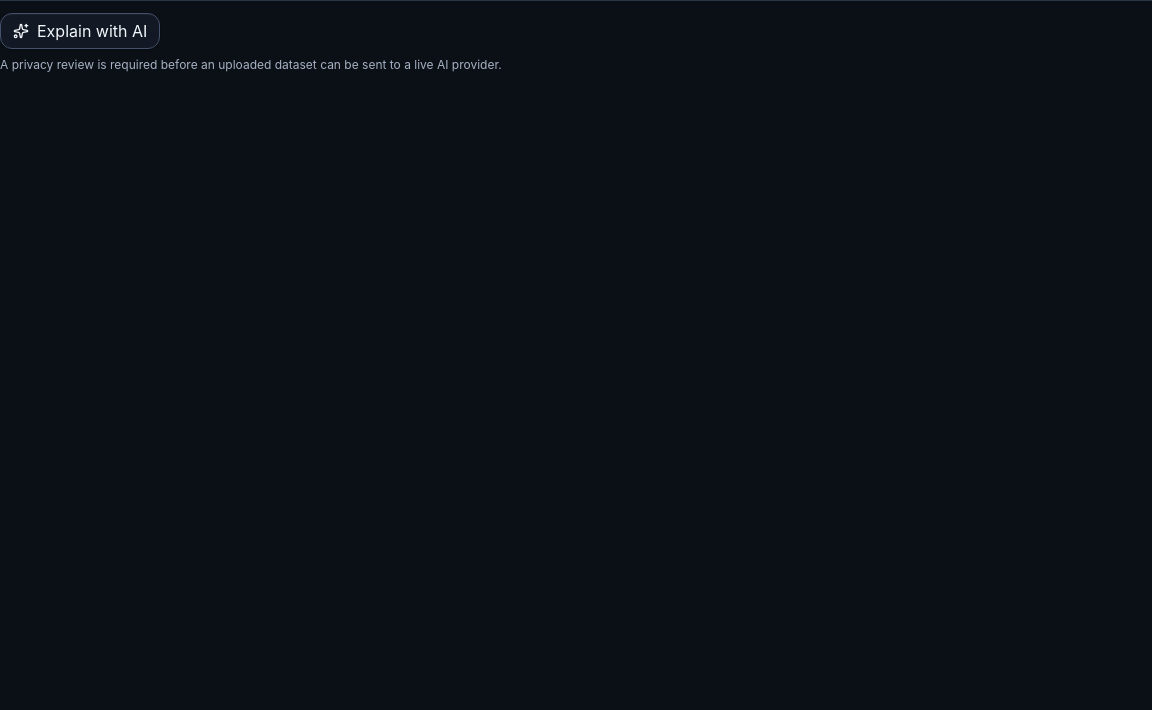
Test: AiExplanation › keeps uploaded analytics local after declining, then permits a consented mock explanation
The image size is (1152, 710).
Click the button "Explain with AI": click(80, 31) [0, 13, 160, 49]
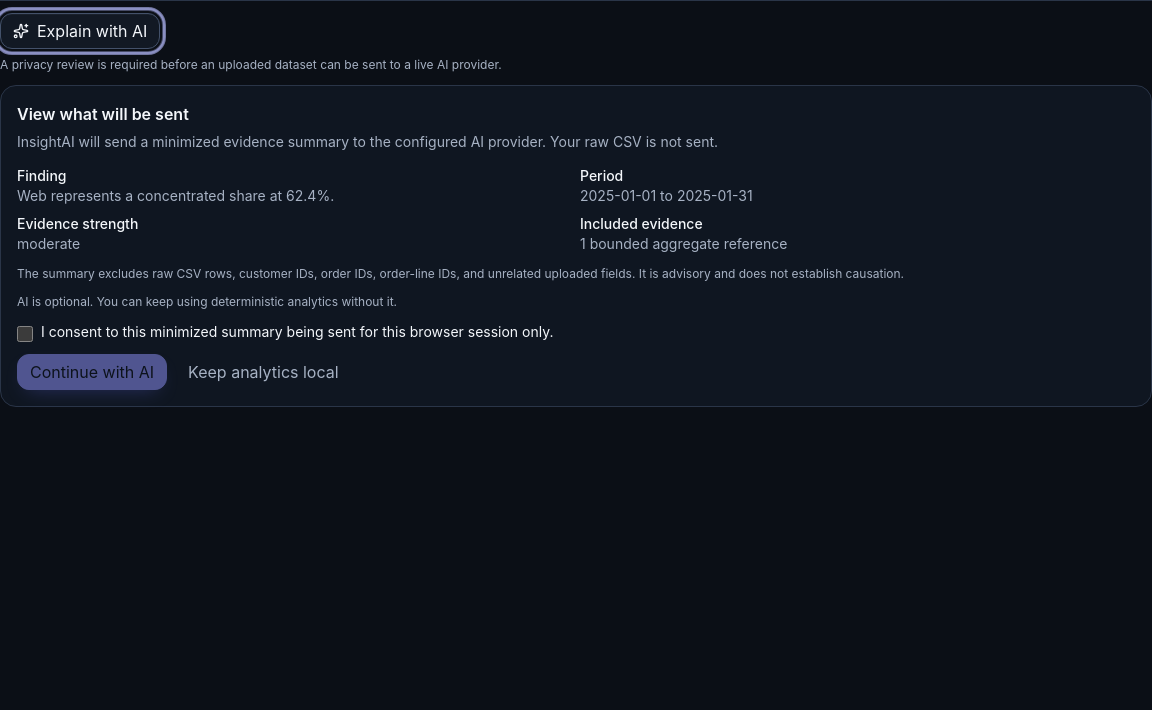
Click the button "Keep analytics local": click(263, 372) [175, 354, 352, 390]
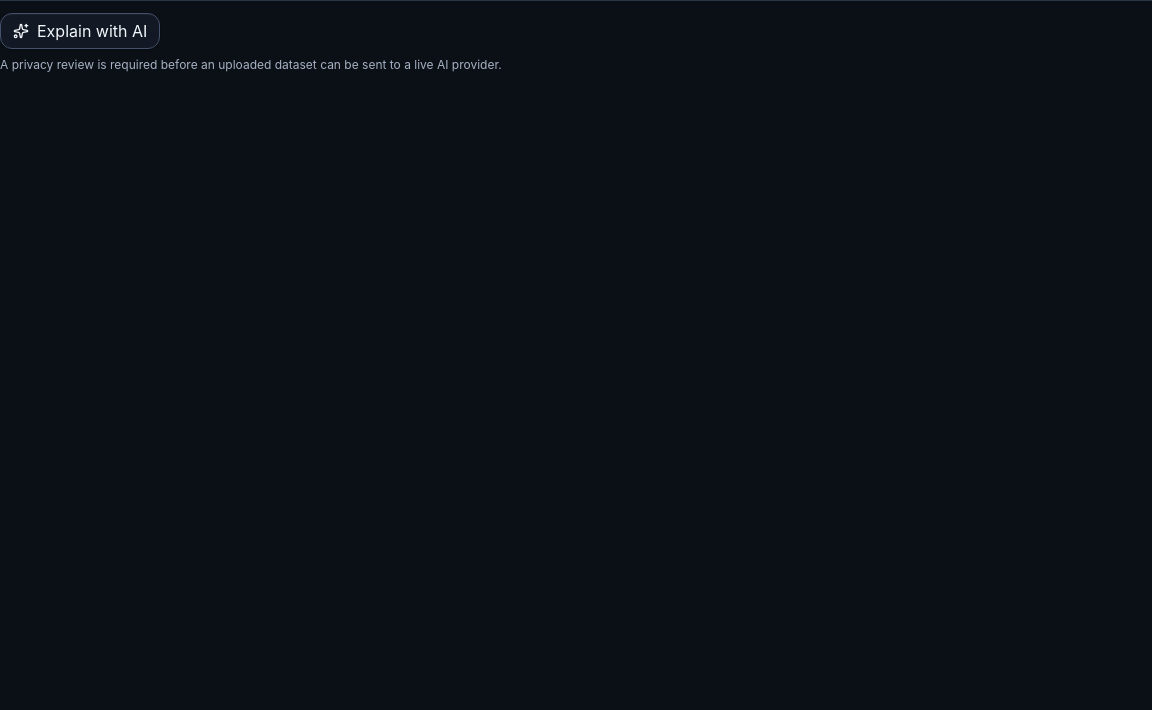
Click the button "Explain with AI": click(80, 31) [0, 13, 160, 49]
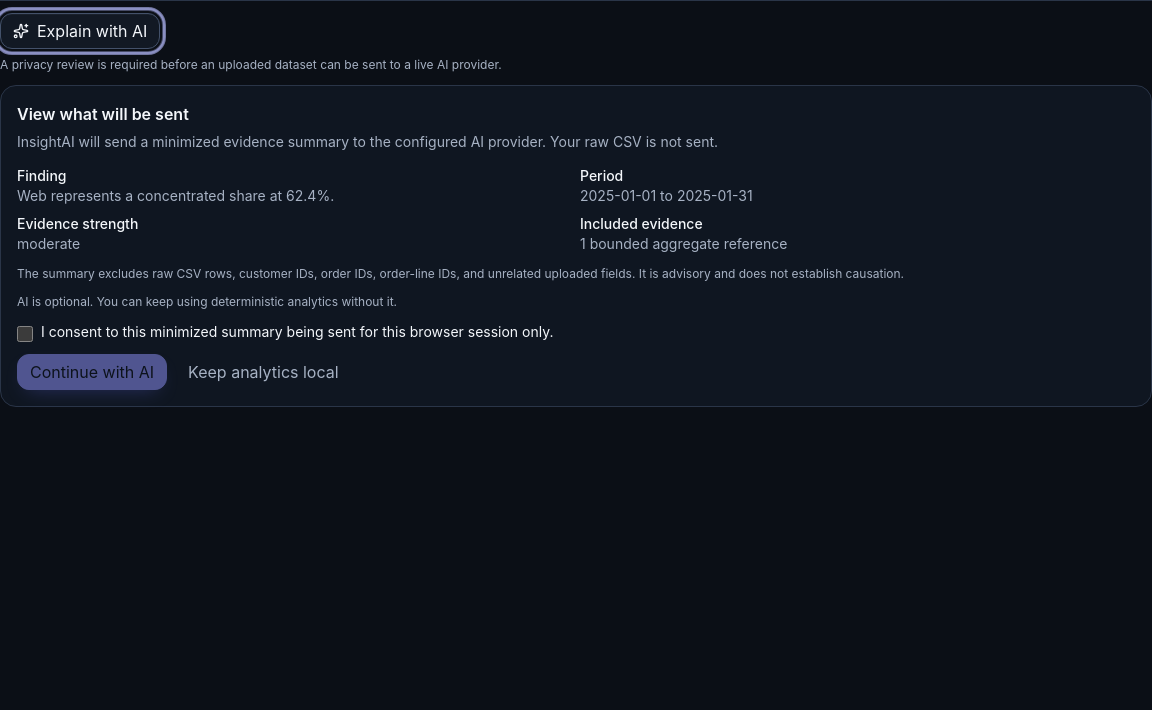
Click the checkbox: click(25, 334) [17, 326, 33, 342]
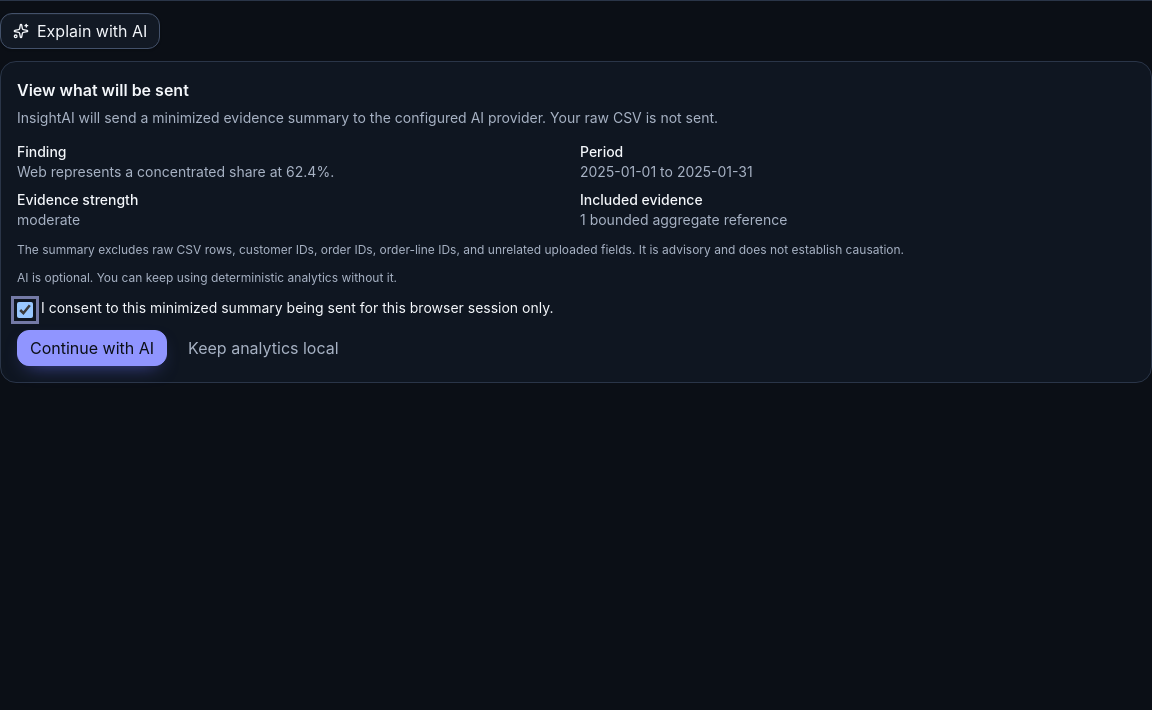
Click the button "Continue with AI": click(92, 348) [17, 330, 167, 366]
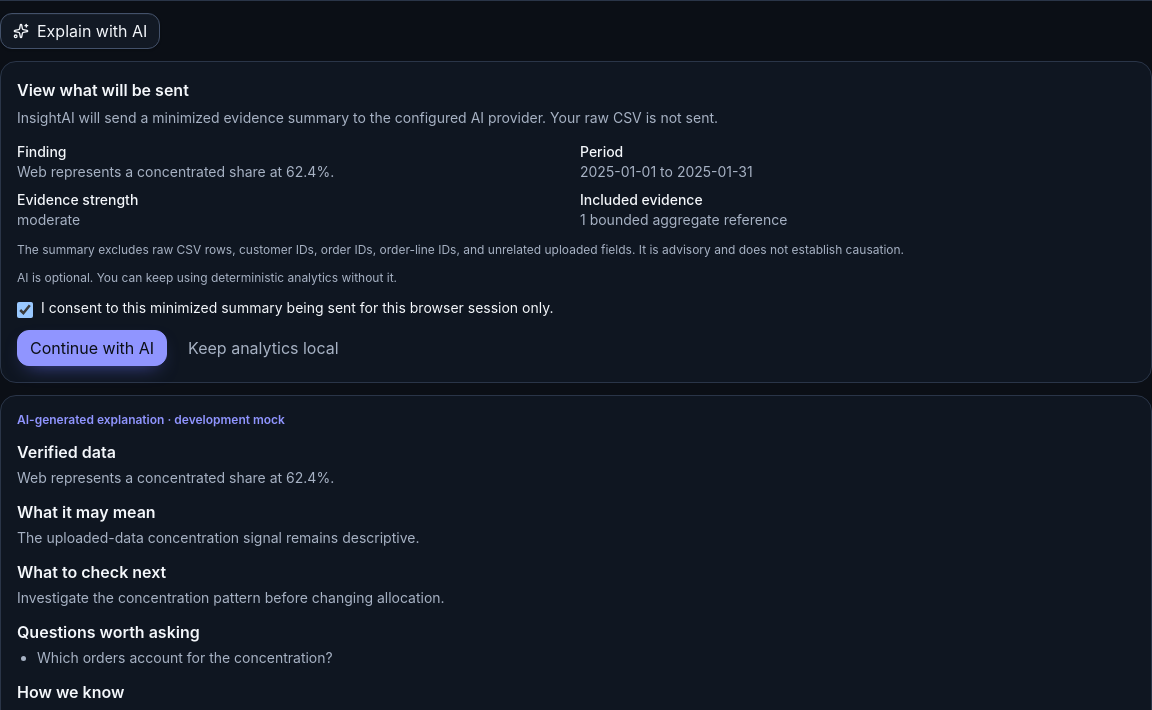
Check: the text "AI-generated explanation · development mock" is shown, box [17, 412, 285, 427]
Check: the text "The uploaded-data concentration signal remains descriptive." is shown, box [17, 529, 420, 546]
